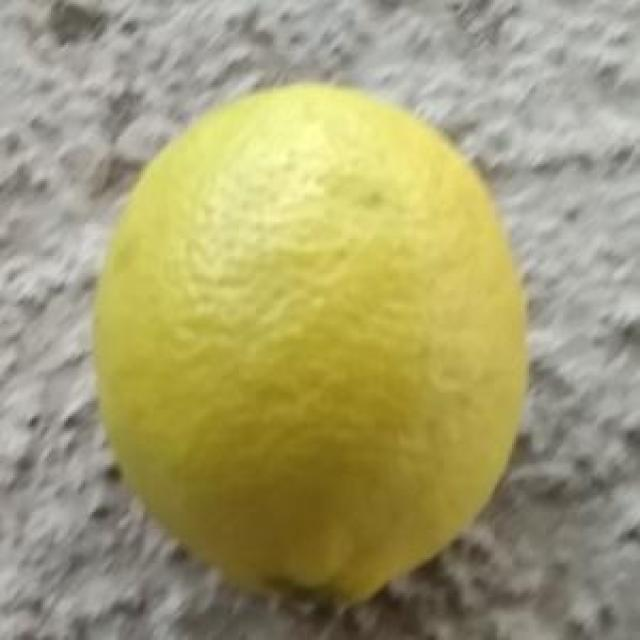lemon: (90, 82, 524, 618)
